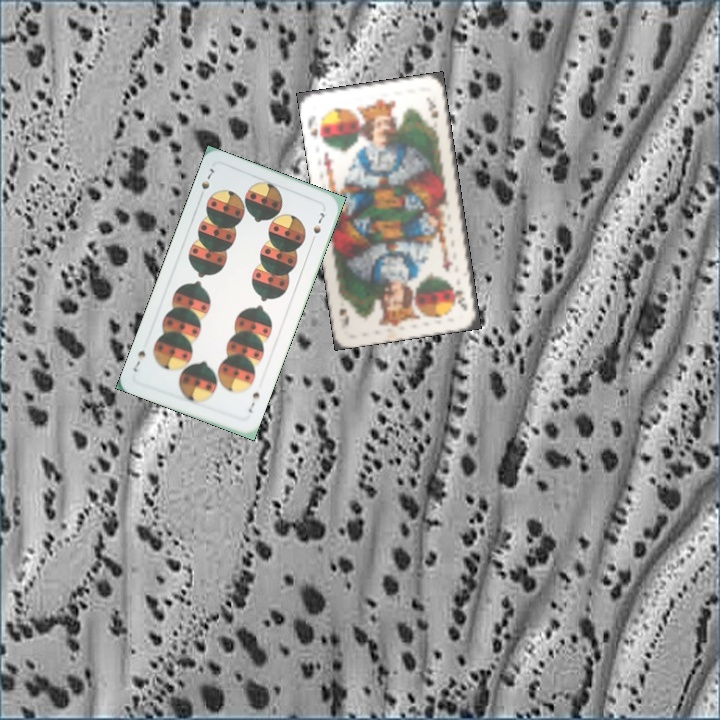S7: (197, 164, 217, 192), (244, 388, 262, 416)
SK: (451, 287, 470, 314), (304, 111, 321, 139)
